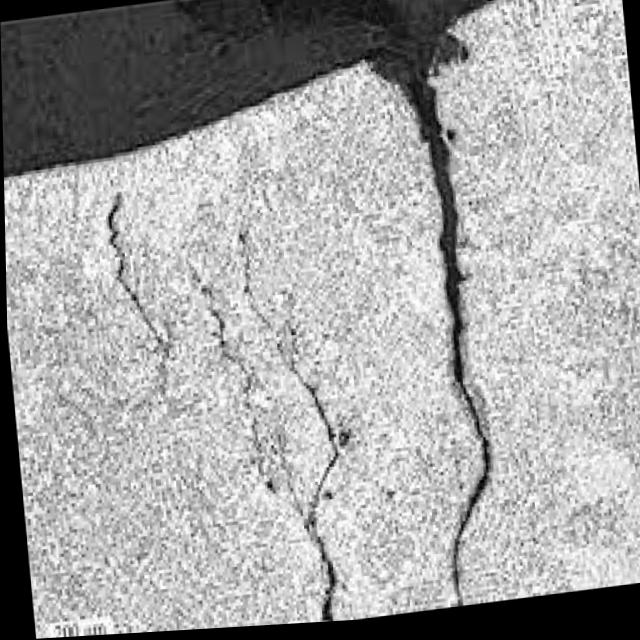Crack: (105, 0, 546, 635)
